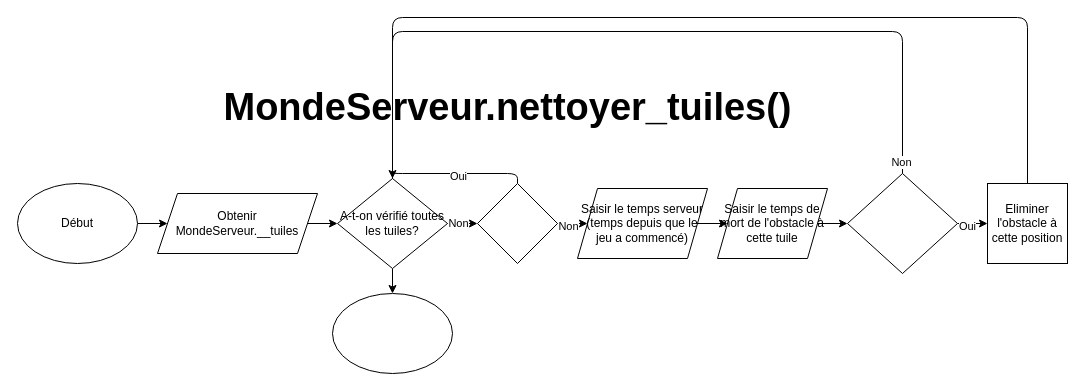
Image size: 1085x391. Some labels were removed from this diagram. Here are the shapes that lost their labels. From the top down, the centre of each, then its label:
At (x=517, y=223): "La tuile est-elle vide?".
At (x=902, y=223): "temps de mort >= temps serveur?".
At (x=392, y=333): "Fin".
